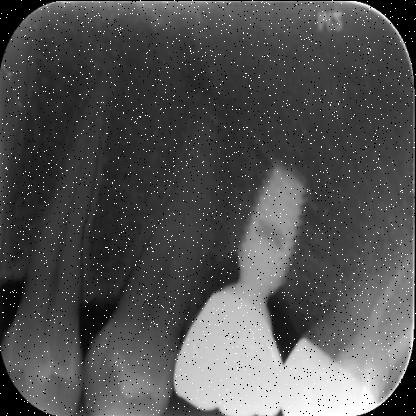Bicon: (230, 157, 312, 305)
